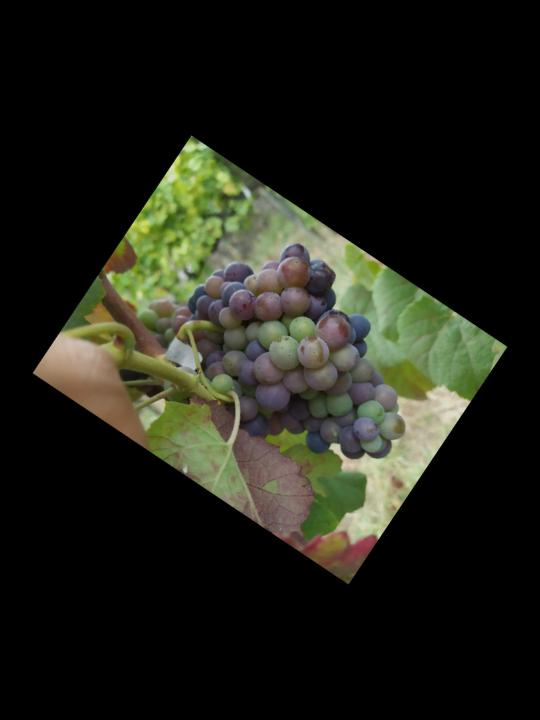grape: (142, 207, 462, 508)
